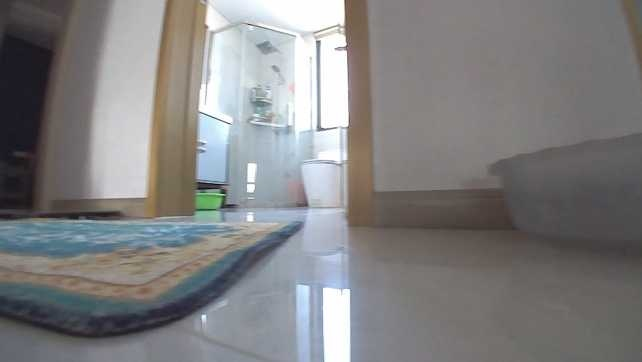blanket: (0, 215, 305, 335)
toilet: (299, 149, 344, 210)
